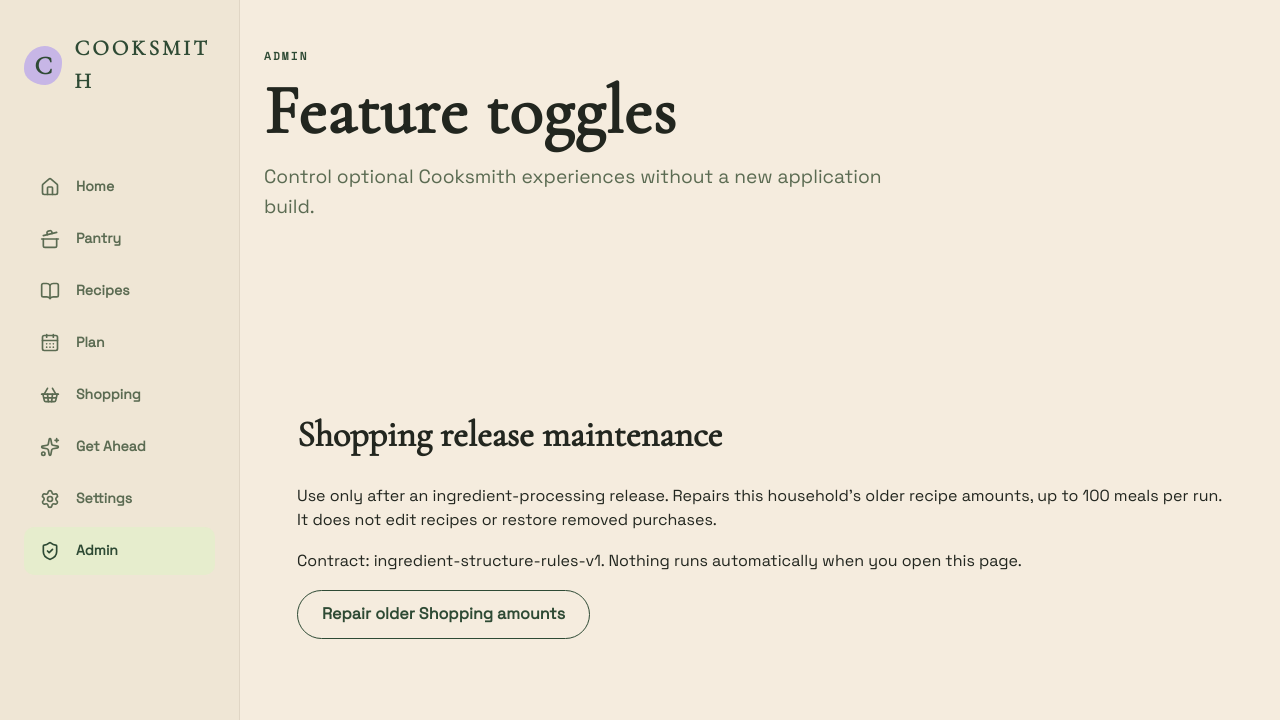
Test: does not retry a network/conflict failure automatically and handles a deliberate no-op retry
The width and height of the screenshot is (1280, 720).
Click the button "Repair older Shopping amounts".
click(444, 615)  # box x1=297 y1=590 x2=590 y2=639
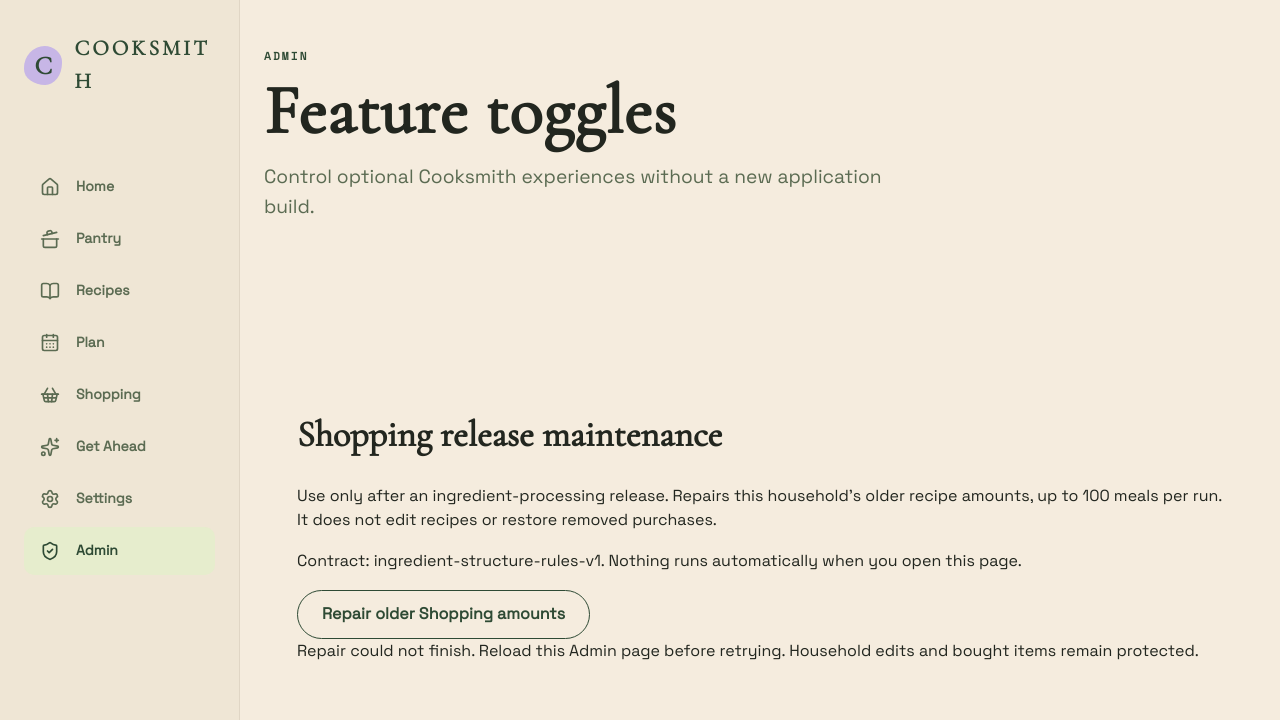
Expected: the text "Repair could not finish" is shown, x1=297 y1=640 x2=1199 y2=661
Click the button "Repair older Shopping amounts".
click(444, 615)  # box x1=297 y1=590 x2=590 y2=639
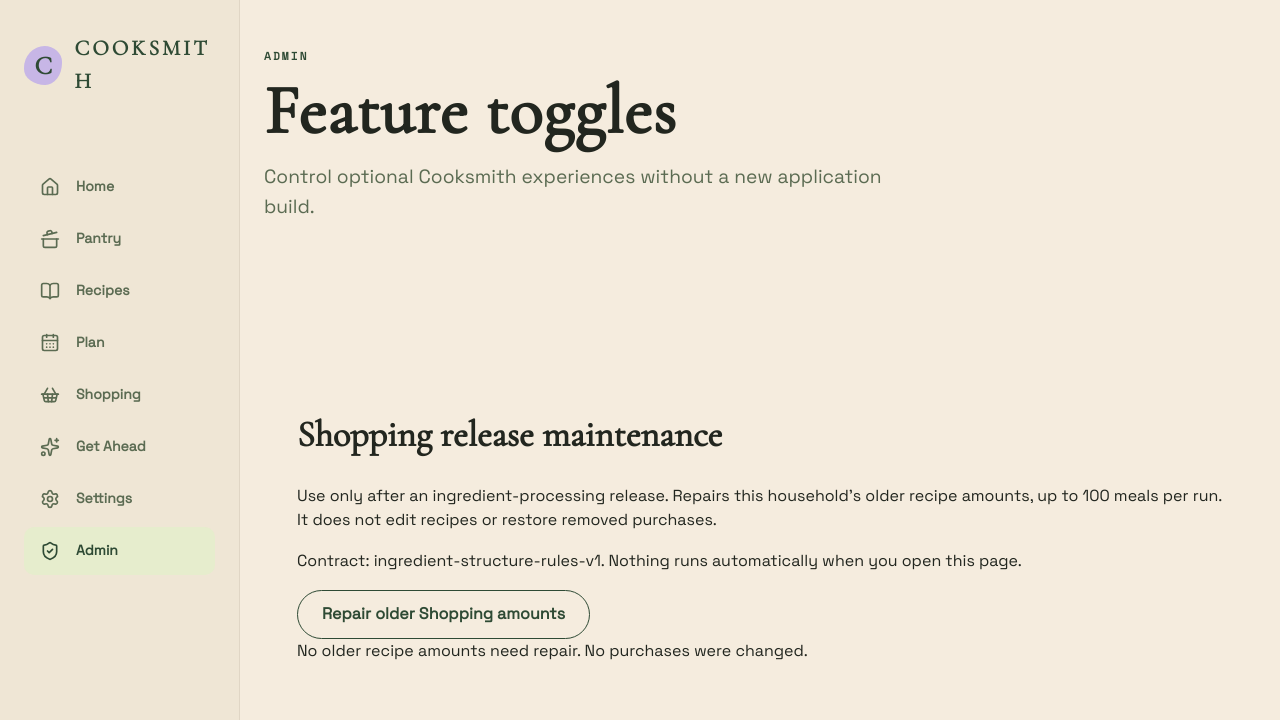
Expected: the text "No older recipe amounts need repair. No purchases were changed." is shown, x1=297 y1=640 x2=808 y2=661
